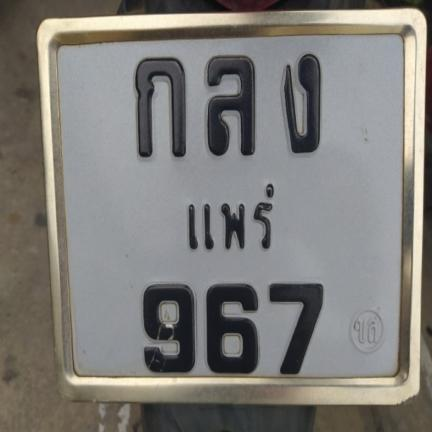6: (201, 272, 265, 380)
7: (267, 273, 329, 375)
9: (140, 275, 198, 376)
A01: (129, 54, 188, 160)
A07: (274, 52, 328, 157)
A36: (204, 51, 259, 161)
PRE: (179, 170, 282, 261)
